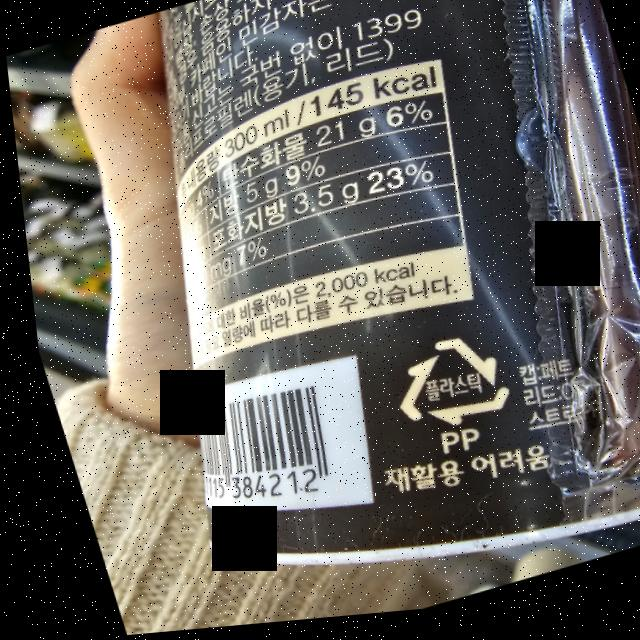Plastic: (368, 328, 515, 451)
